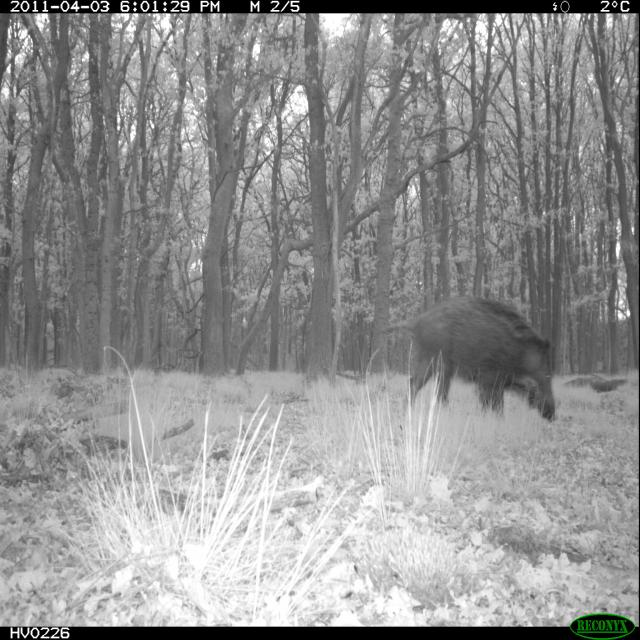boar: (403, 278, 582, 456)
